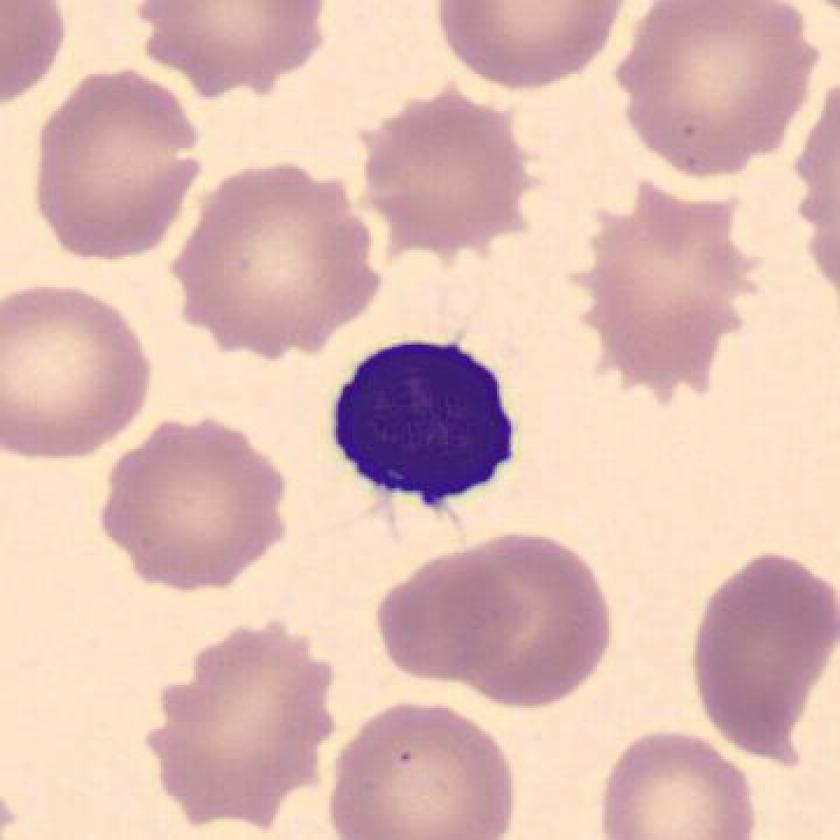lymphocyte: (307, 323, 547, 540)
